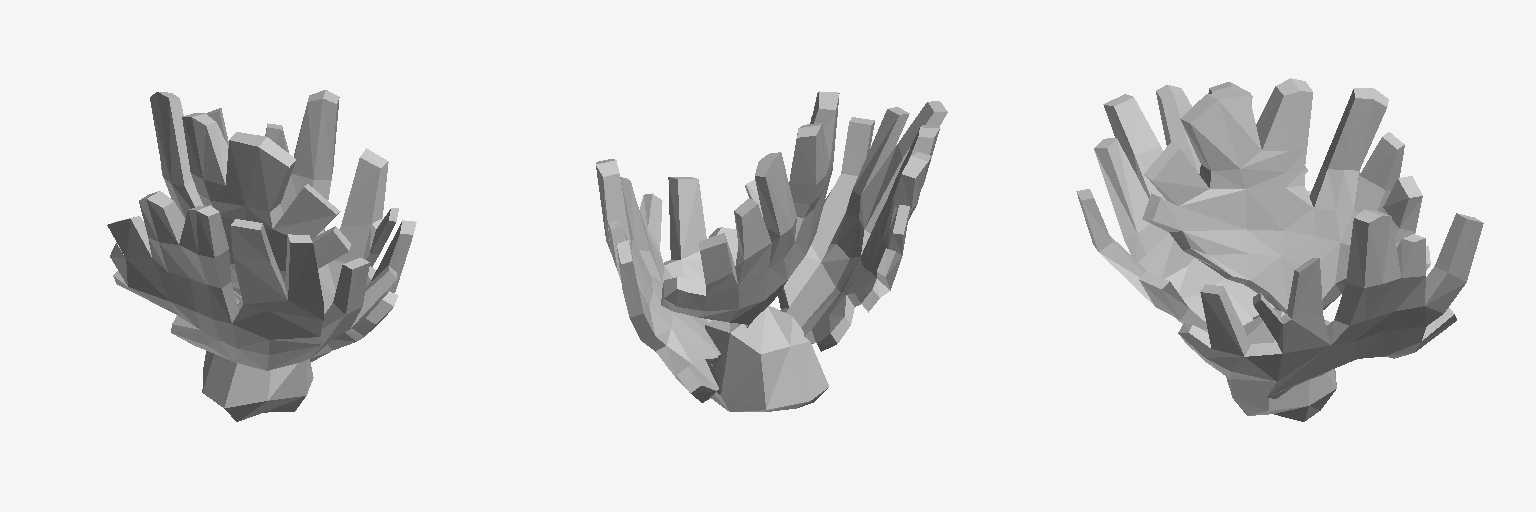
Rendered from Elkhorn_02_LOD2.obj.
The picture shows the model from 3 angles: view 1: azimuth 30°, elevation 25°; view 2: azimuth 150°, elevation 25°; view 3: azimuth 270°, elevation 25°; orthographic projection.
Parts seen in each view (by area): view 1: Elkhorn_02_LOD2_Cube.552; view 2: Elkhorn_02_LOD2_Cube.552; view 3: Elkhorn_02_LOD2_Cube.552.
Boxes of the visible parts, x1=… form: Elkhorn_02_LOD2_Cube.552: x1=107, y1=90, x2=416, y2=421; Elkhorn_02_LOD2_Cube.552: x1=596, y1=91, x2=947, y2=411; Elkhorn_02_LOD2_Cube.552: x1=1076, y1=78, x2=1483, y2=421.
Bounding box in the file's own units: 8.4 × 8.41 × 10.41.